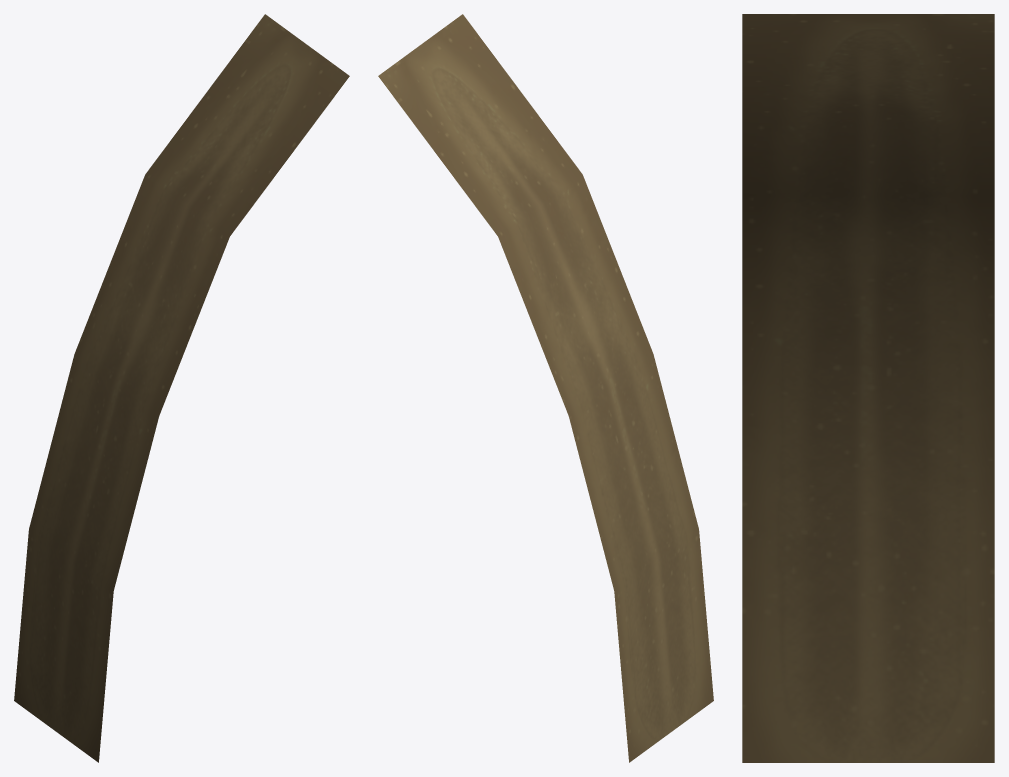
Rendered from SM_Plant_6.fbx.
3 views of the same model, side by side, from view 1: azimuth 30°, elevation 25°; view 2: azimuth 150°, elevation 25°; view 3: azimuth 270°, elevation 25° (orthographic). The views are drawn at different scales.
Visible parts, largest first — view 1: SM_Plant_6_LOD0; view 2: SM_Plant_6_LOD0; view 3: SM_Plant_6_LOD0.
Part boxes in pixels (bbox=[...]): SM_Plant_6_LOD0: bbox=[14, 14, 349, 762]; SM_Plant_6_LOD0: bbox=[378, 14, 713, 762]; SM_Plant_6_LOD0: bbox=[742, 14, 994, 762].
Size of the model in its own units: 15.26 by 8.93 by 36.35.
Materials: 1 (1 with a texture image).
